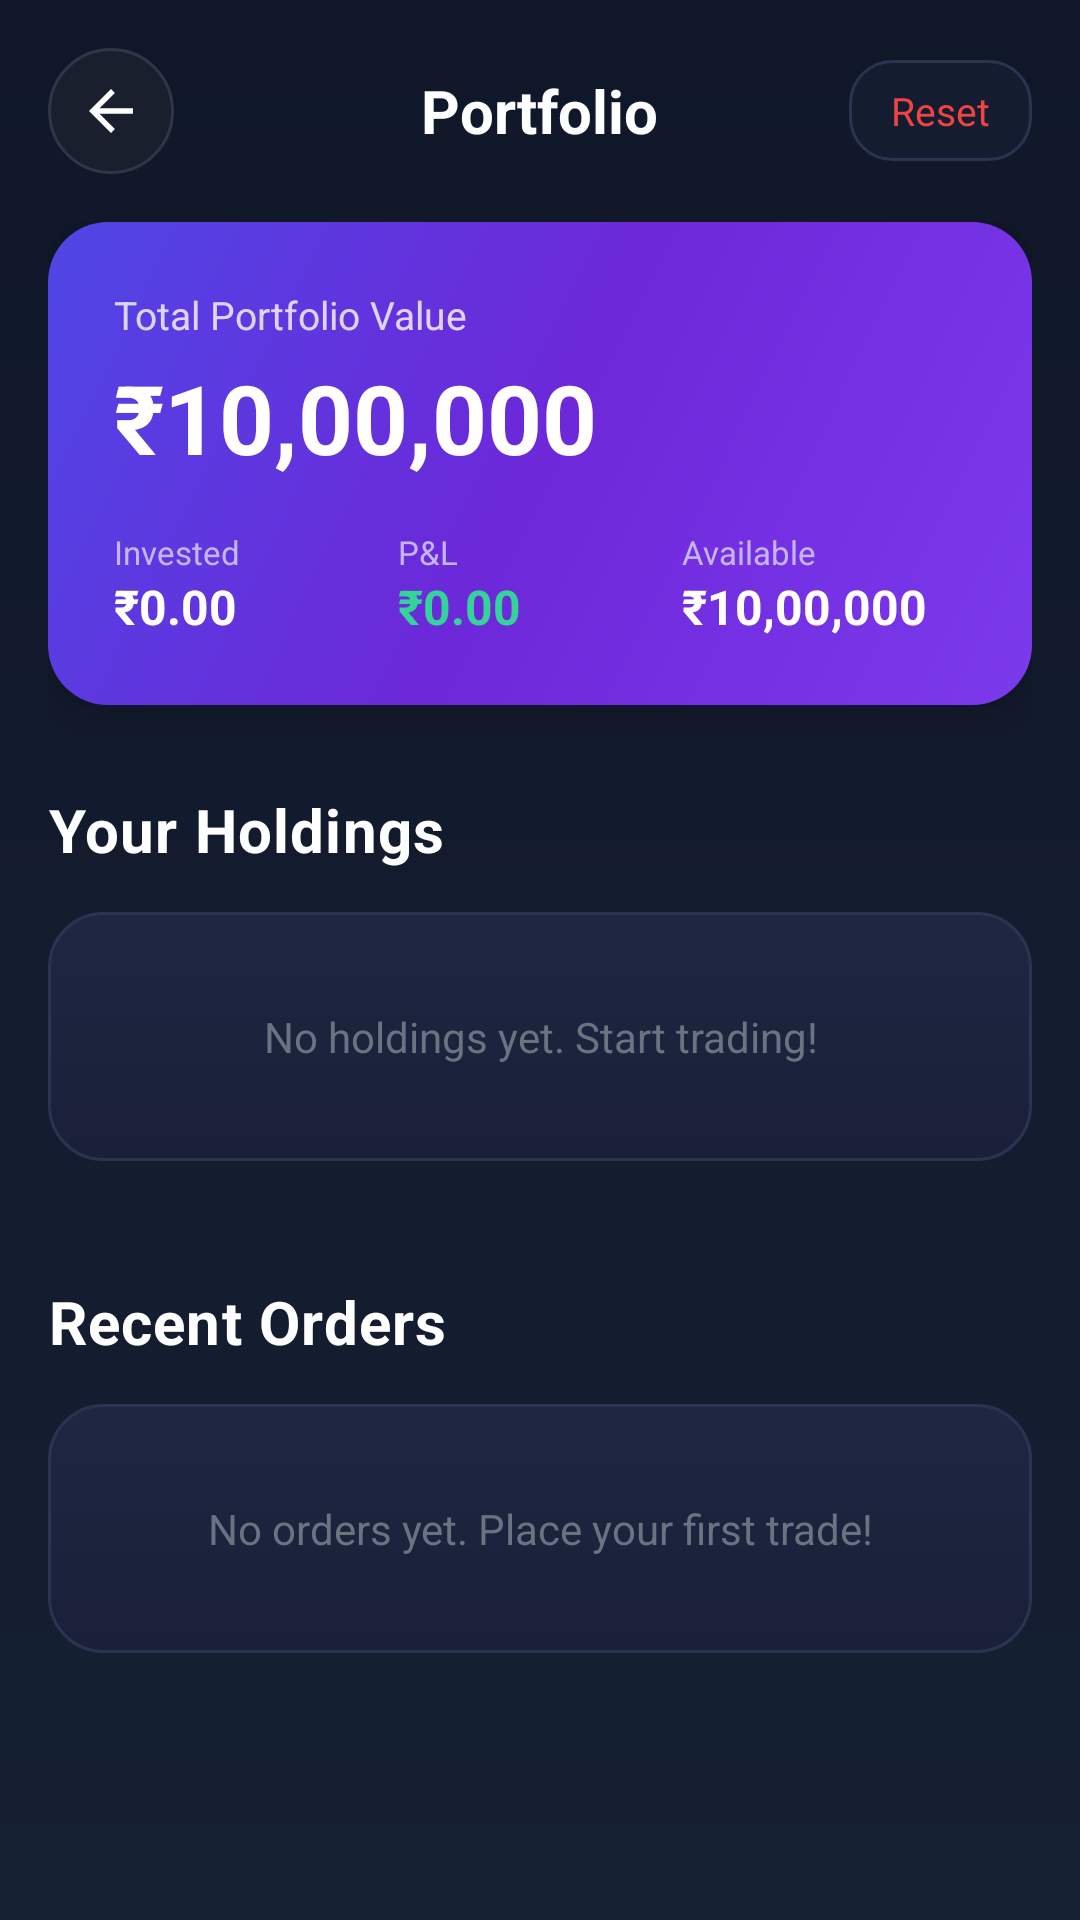

Locate icon controls on the screen. Image size 1080×1920, boxes as (x1, y1, x2, y2).
back arrow: (48, 48, 174, 174)
